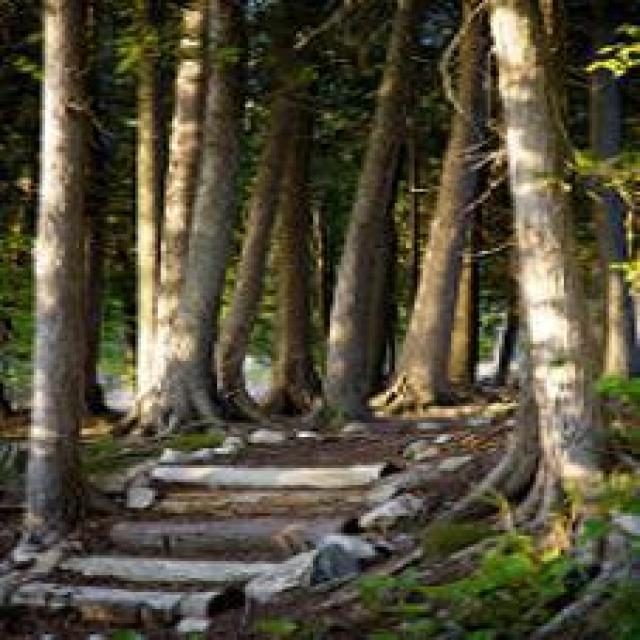upstair: (29, 421, 342, 616)
